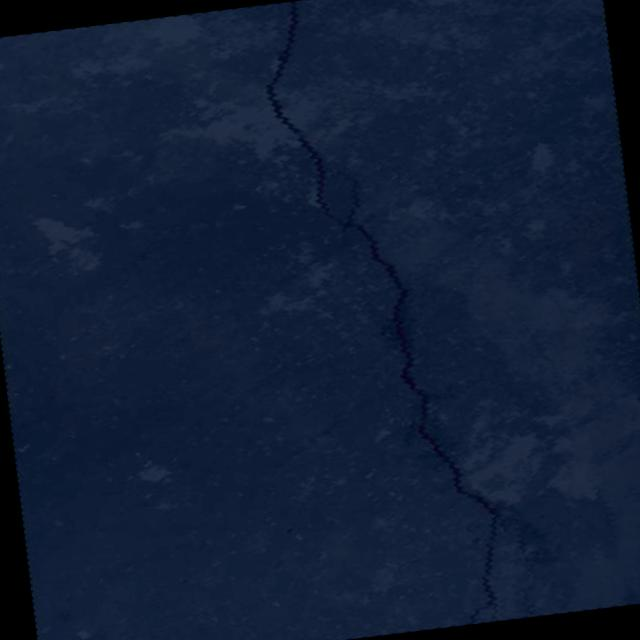crack: (254, 0, 519, 640), (517, 534, 530, 562), (521, 592, 530, 614)
